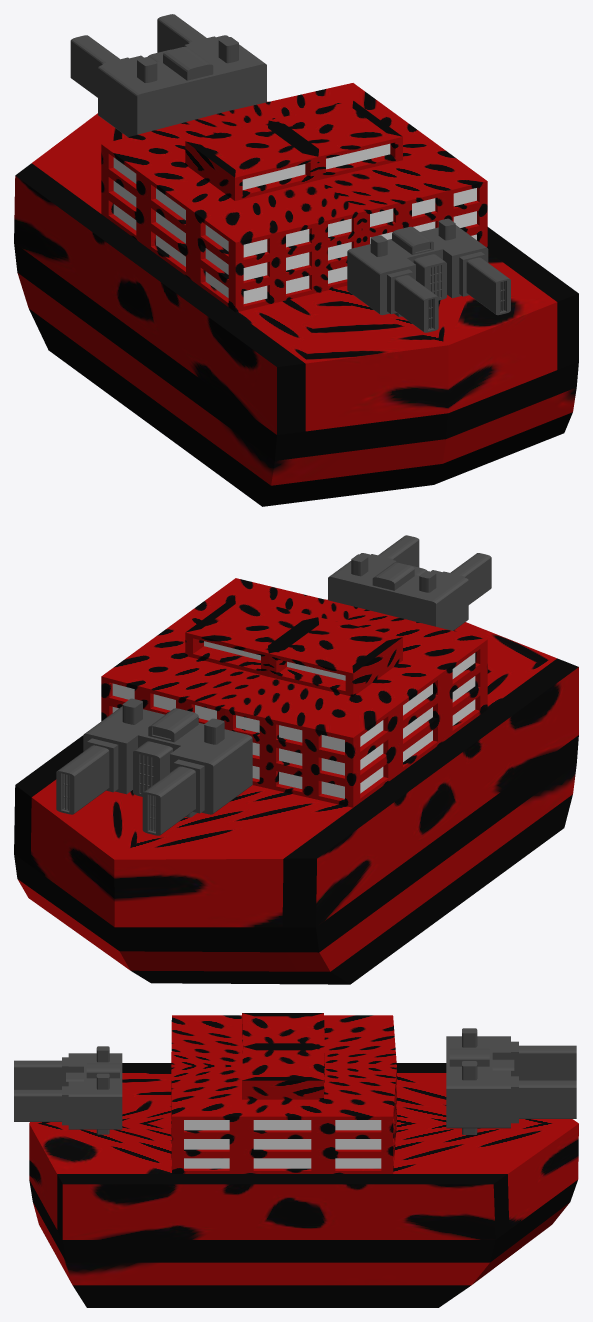
The model's file is RED_LightCruiser.fbx.
3 renders of one model, top to bottom at view 1: azimuth 30°, elevation 25°; view 2: azimuth 150°, elevation 25°; view 3: azimuth 270°, elevation 25°, orthographic. The views are drawn at different scales.
Parts seen in each view (by area): view 1: Cube, Cube.001, Cube.002; view 2: Cube, Cube.001, Cube.002; view 3: Cube, Cube.001, Cube.002.
Part boxes in pixels (x1=…): Cube: x1=14, y1=83, x2=578, y2=506; Cube.001: x1=70, y1=14, x2=266, y2=136; Cube.002: x1=347, y1=218, x2=510, y2=332; Cube: x1=14, y1=578, x2=578, y2=984; Cube.001: x1=56, y1=698, x2=252, y2=835; Cube.002: x1=328, y1=535, x2=491, y2=630; Cube: x1=29, y1=1013, x2=578, y2=1307; Cube.001: x1=446, y1=1028, x2=576, y2=1134; Cube.002: x1=14, y1=1046, x2=122, y2=1134.
Bounding box in the file's own units: 420 × 328 × 828.
